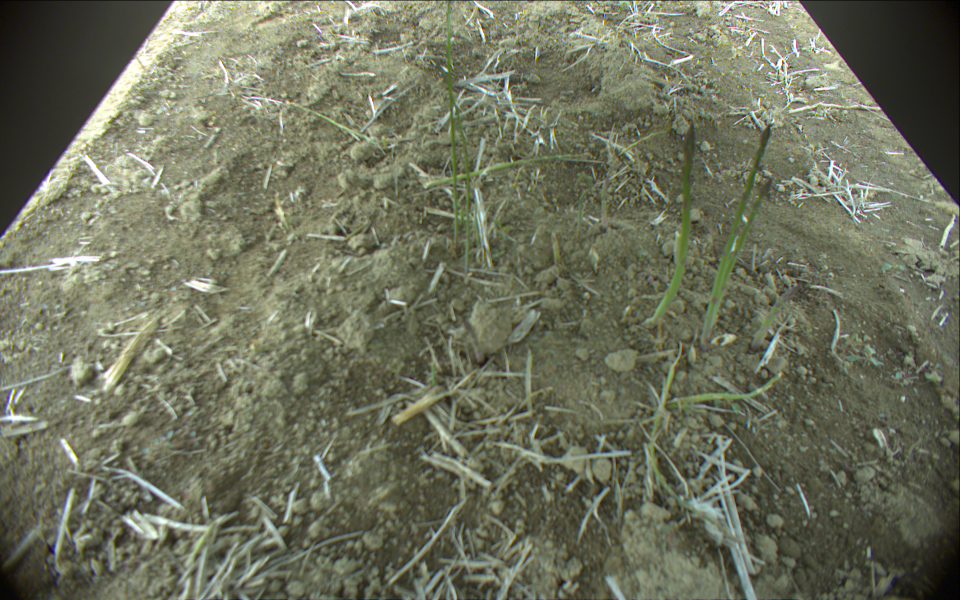aspa: (699, 121, 776, 343), (711, 176, 778, 330), (647, 124, 696, 331), (435, 53, 473, 259), (273, 91, 386, 150), (422, 152, 600, 187), (440, 1, 462, 255), (675, 374, 784, 410), (749, 285, 802, 350)
